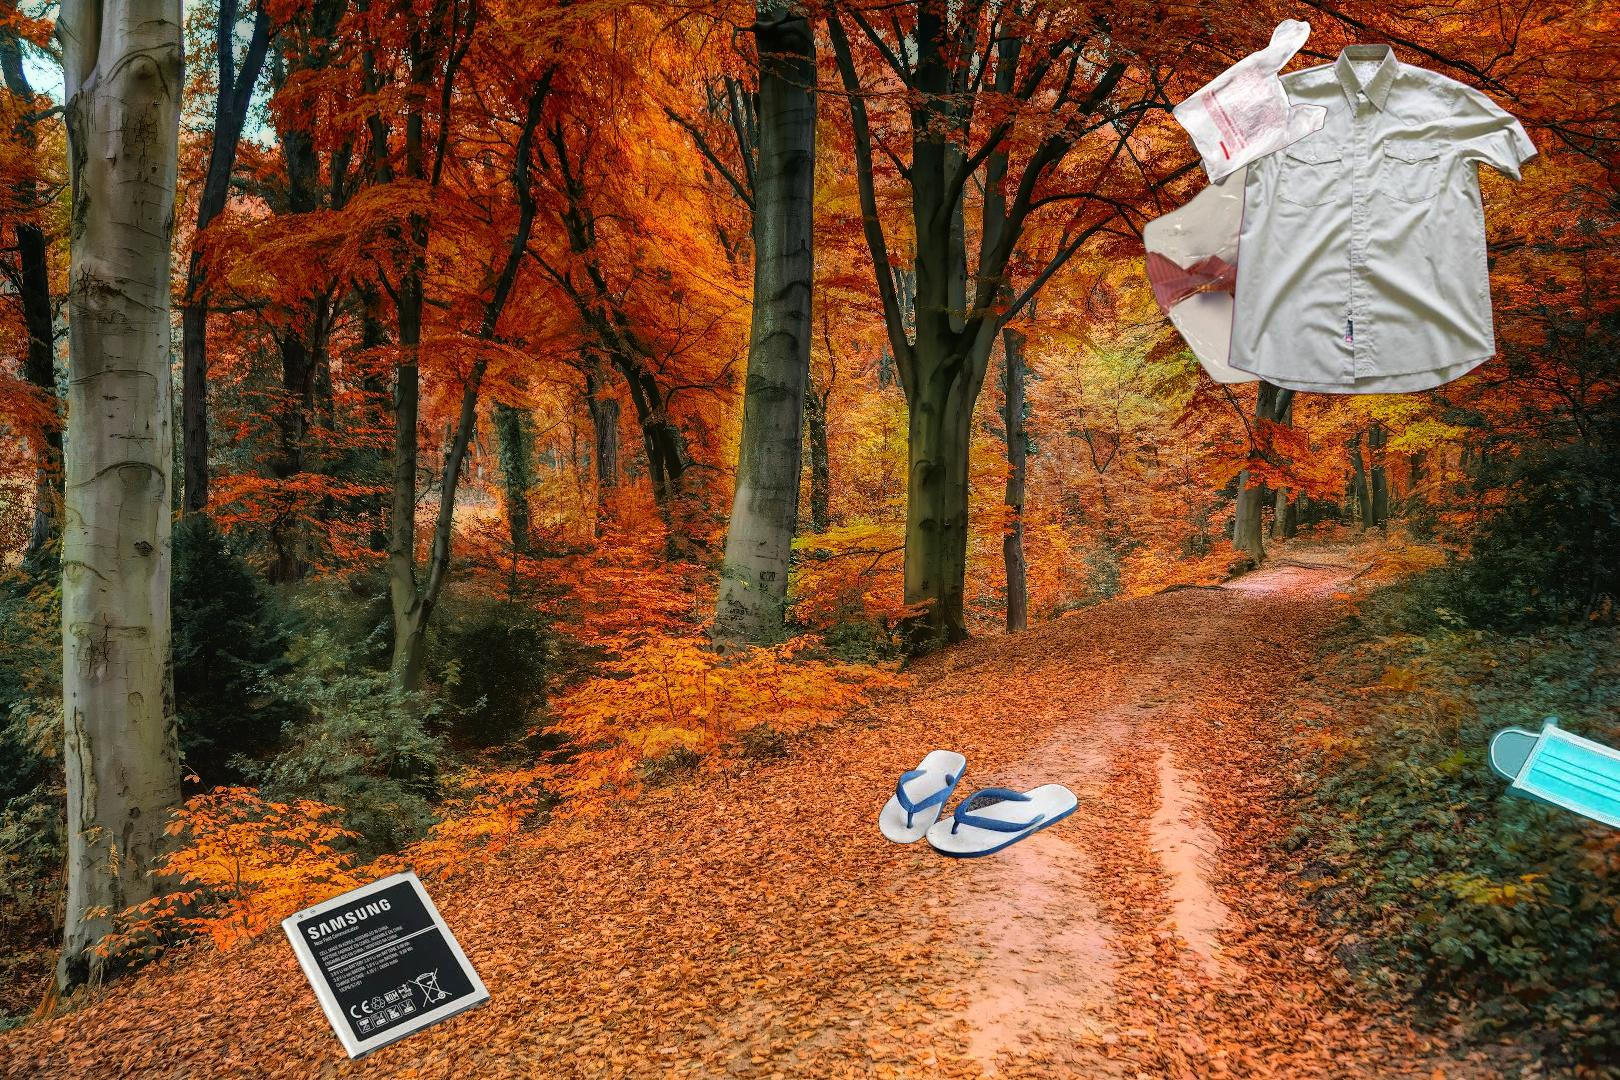battery: (277, 865, 494, 1064)
clothes: (1185, 40, 1540, 400)
paper: (1137, 107, 1487, 388)
plastic-bag: (1170, 14, 1331, 188)
shoes: (876, 747, 1082, 861)
trash: (1485, 714, 1620, 855)
trashbox-cardboard: (1587, 1006, 1620, 1080)
